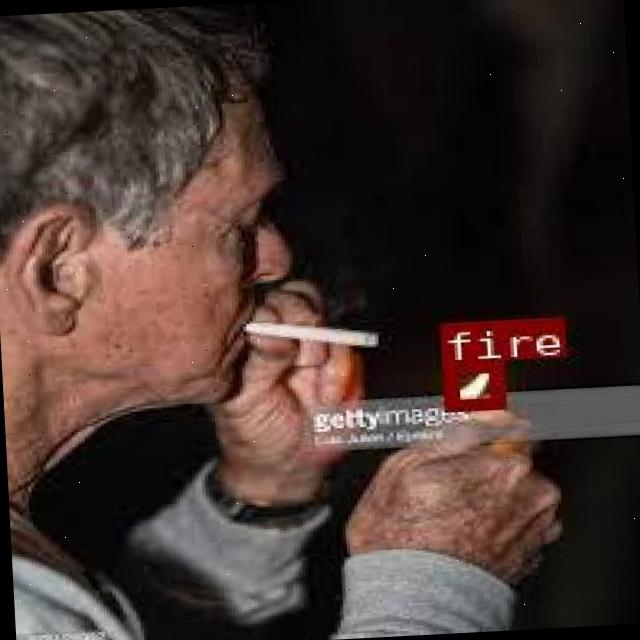fire: (440, 358, 502, 409)
